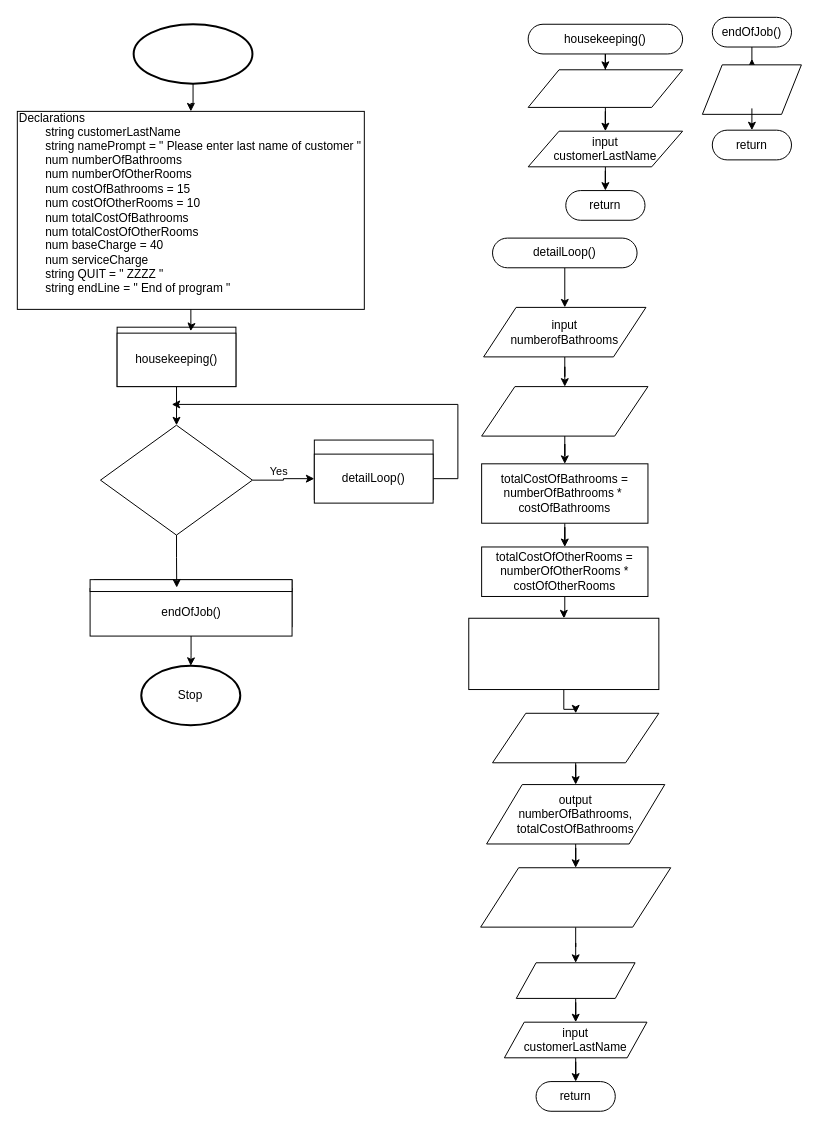
This 819x1129 diagram has some shape labels left out. The box of each missing label's shape, as (x1, y1, x2, y2) in pixels:
customerLastName not equal to QUIT: (99, 424, 252, 535)
input numberOfOtherRooms: (481, 386, 648, 436)
output customerLastName: (492, 712, 659, 763)
output endLine: (701, 64, 801, 114)
output namePrompt: (527, 69, 683, 107)
output numberOfOtherRooms, totalCostOfOtherRooms: (480, 867, 671, 927)
output serviceCharge: (515, 962, 635, 998)
serviceCharge = baseCharge + totalCostOfBathrooms + totalCostOfOtherRooms: (468, 617, 659, 690)
Start: (132, 23, 253, 84)
